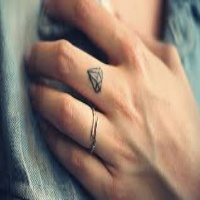ring: (27, 79, 117, 152)
